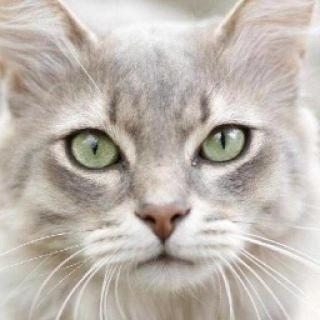cat: (1, 0, 310, 298)
nose: (126, 175, 200, 252)
